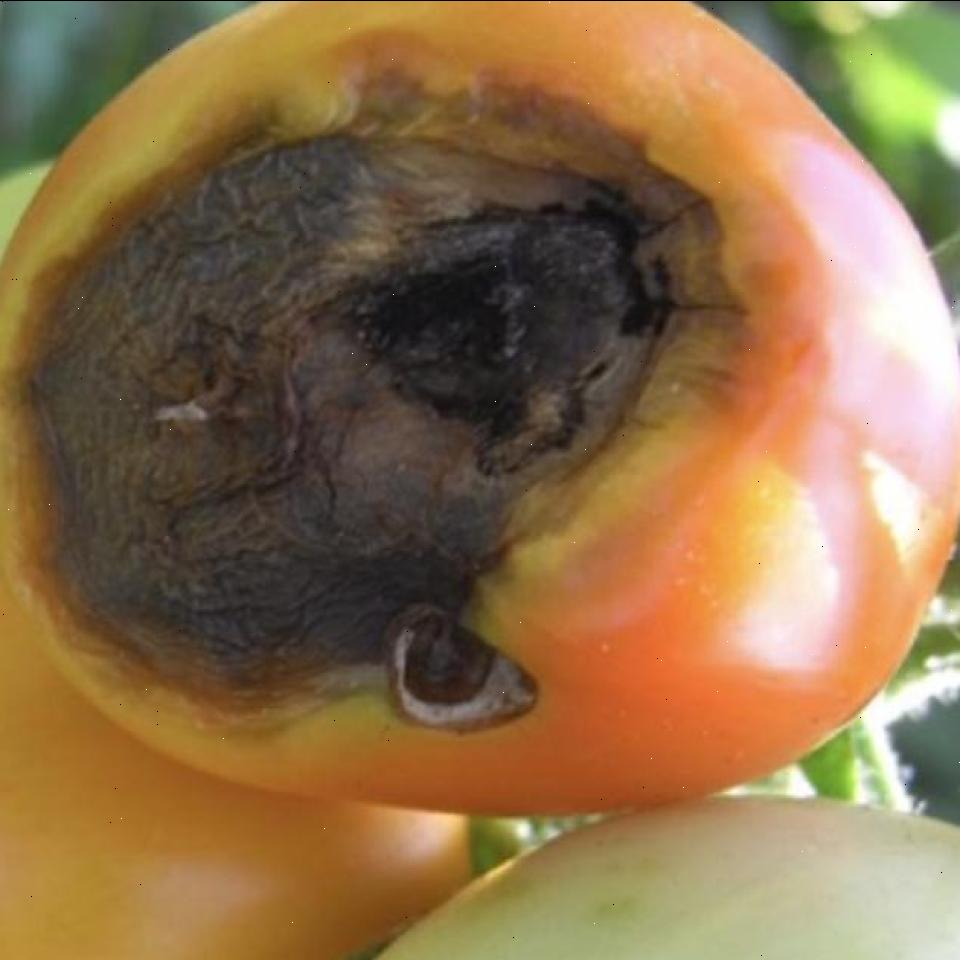Blossom_end_rot: (15, 93, 748, 741)
